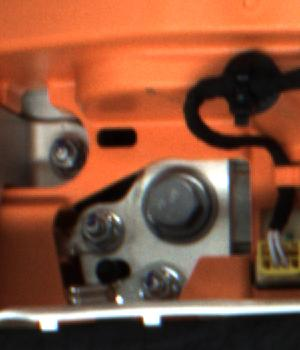nut_b: (140, 166, 220, 240)
screw_s: (137, 264, 179, 299), (80, 205, 114, 247), (47, 139, 75, 168)
